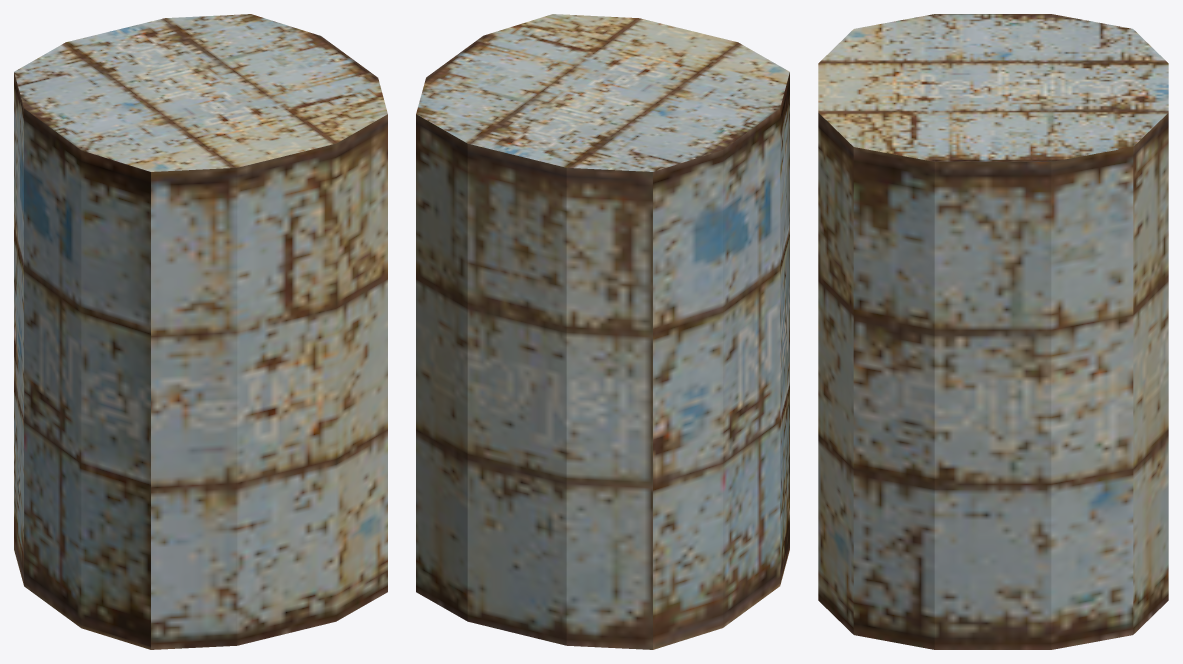
Rendered from Barrel.fbx.
The picture shows the model from 3 angles, left to right: view 1: azimuth 30°, elevation 25°; view 2: azimuth 150°, elevation 25°; view 3: azimuth 270°, elevation 25°; orthographic projection. The views are drawn at different scales.
Parts seen in each view (by area): view 1: Barrel; view 2: Barrel; view 3: Barrel.
Part boxes in pixels (x1=…): Barrel: x1=14, y1=14, x2=387, y2=649; Barrel: x1=416, y1=14, x2=789, y2=649; Barrel: x1=818, y1=14, x2=1168, y2=649.
Bounding box in the file's own units: 200 × 308 × 200.
Materials: 1 (1 with a texture image).
